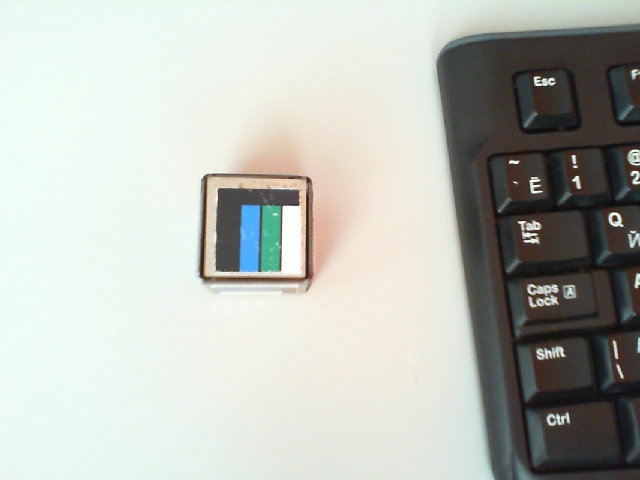square: (215, 188, 301, 273)
